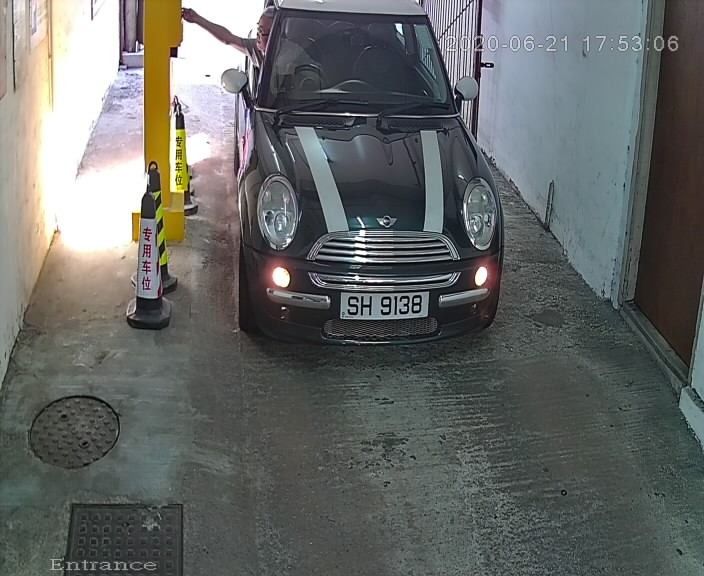privatecar: (222, 2, 519, 356)
